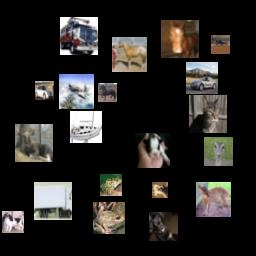airplane: (59, 74, 94, 109)
automobile: (186, 62, 218, 94), (35, 81, 54, 100)
bird: (204, 137, 233, 166)
cat: (189, 95, 227, 133)
deer: (15, 124, 53, 162), (196, 182, 231, 217)
dog: (135, 133, 170, 168), (149, 212, 178, 241), (2, 211, 24, 233), (152, 182, 168, 198)
frog: (93, 202, 125, 234), (100, 174, 122, 196)
ship: (70, 111, 102, 143)
truck: (34, 182, 72, 220), (60, 17, 98, 55)
